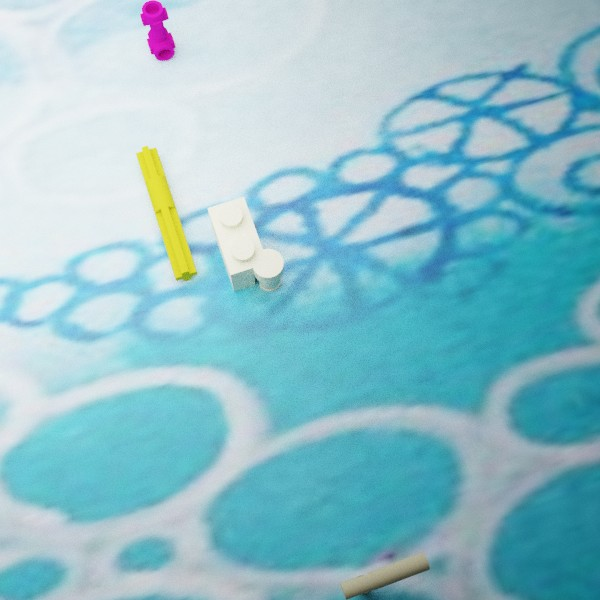lego: (136, 145, 197, 281), (207, 196, 283, 291), (340, 552, 429, 599), (139, 0, 175, 61)
